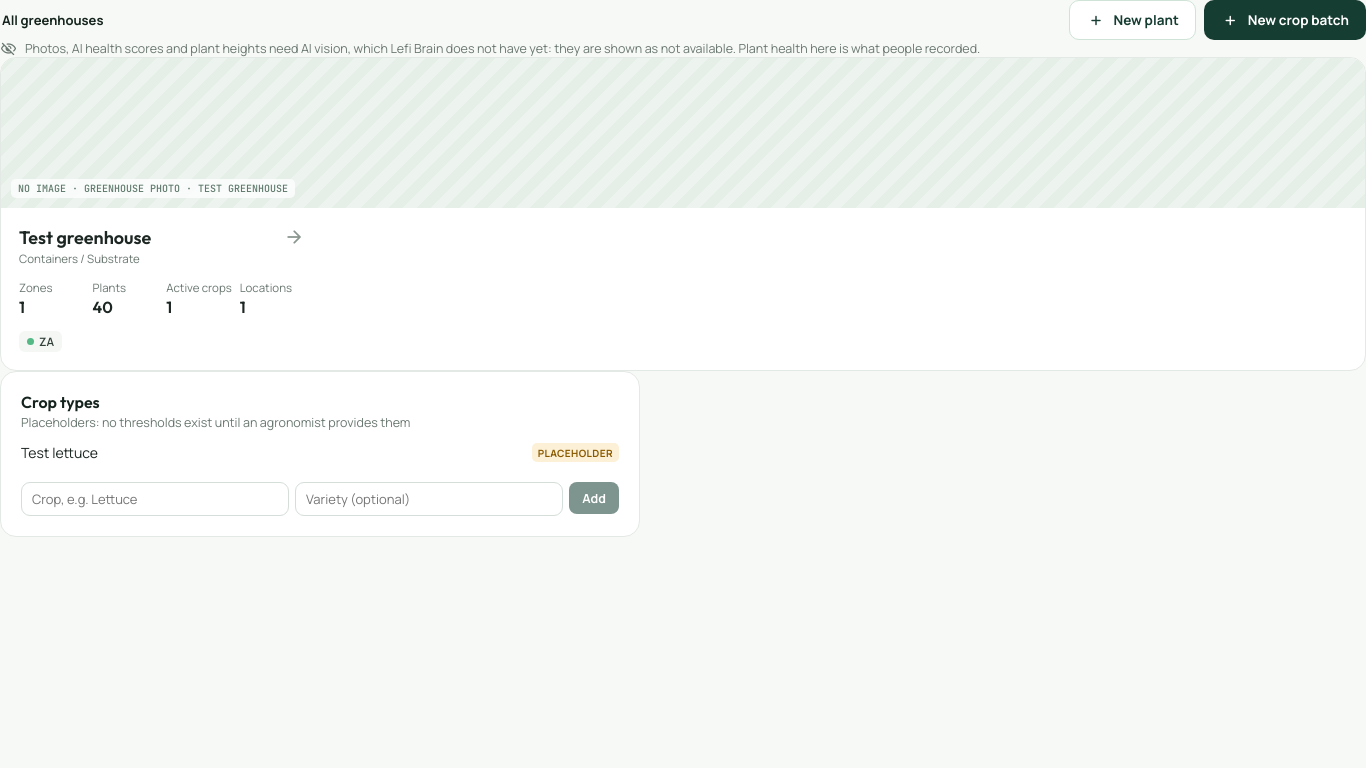
Greenhouses & Crops against the real Lefi Brain › offers New plant from the first level
This screenshot has width=1366, height=768.
Click the button "New plant" at (1133,20), box [1070,0,1196,40]
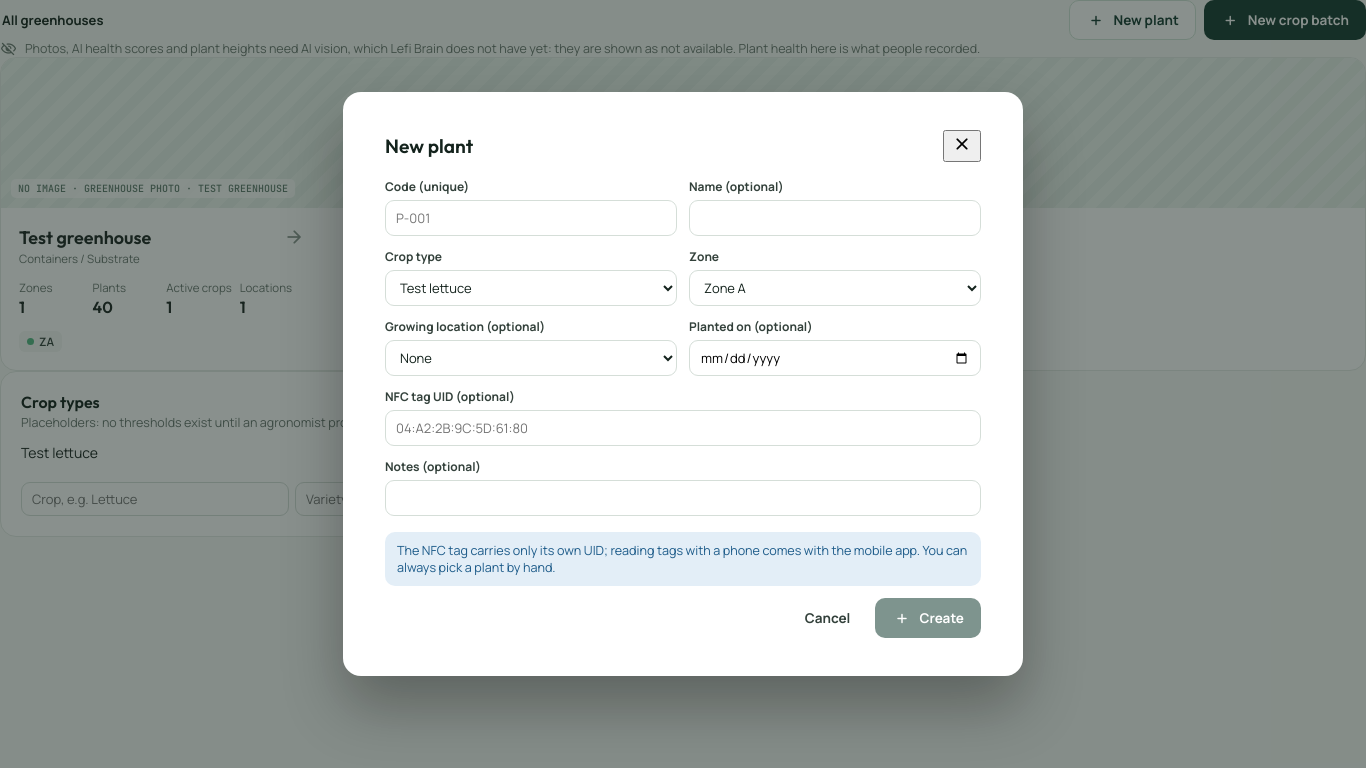
Check: the heading "New plant" is shown, box [385,134,473,158]
